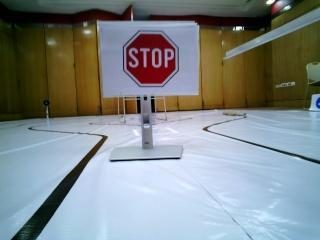stop: (106, 25, 188, 93)
